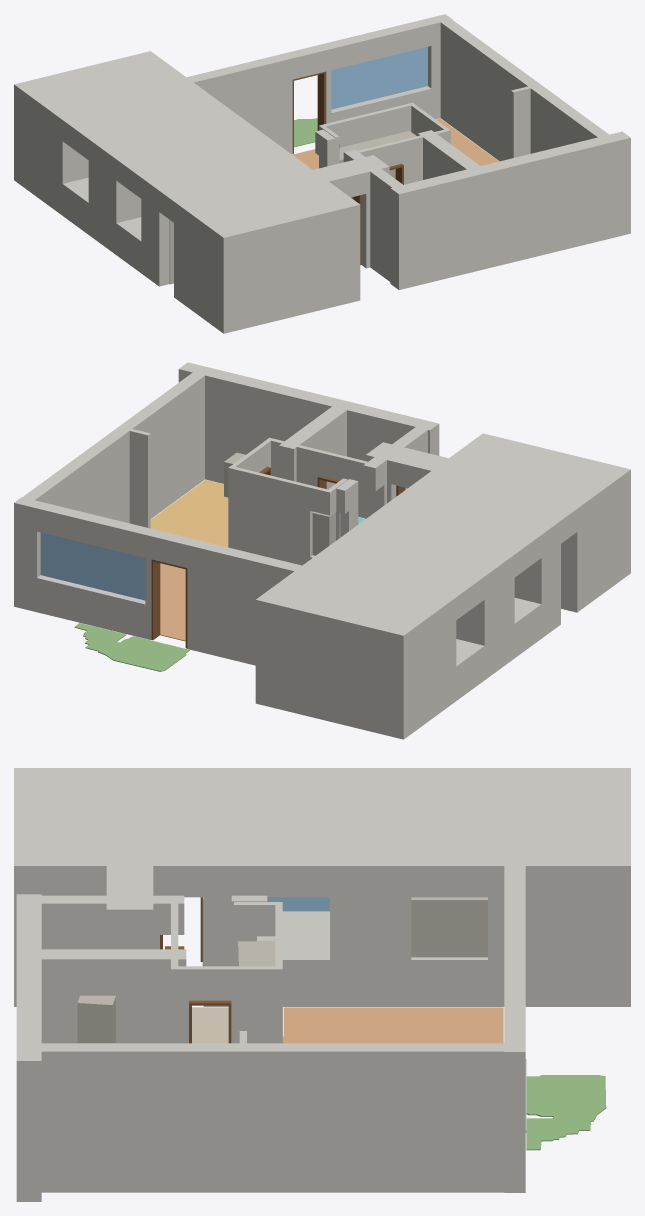
3 views of the same model, one above another, from view 1: azimuth 30°, elevation 25°; view 2: azimuth 150°, elevation 25°; view 3: azimuth 270°, elevation 25° (orthographic). The views are drawn at different scales.
Visible parts, largest first — view 1: walls, window_2, floor_0_Living_Room, door_0, furniture_1_closet, floor_5_Outdoor; view 2: walls, window_2, floor_2_Kitchen, floor_5_Outdoor, floor_0_Living_Room, door_0, furniture_1_closet, sill_2; view 3: walls, floor_0_Living_Room, floor_5_Outdoor, furniture_0_closet, furniture_3_closet, floor_1_Entry, furniture_1_closet, window_6.
Boxes of the visible parts, x1,y1,x2,y2 form: walls: [14, 14, 630, 333]; window_2: [331, 47, 427, 109]; floor_0_Living_Room: [292, 118, 498, 169]; door_0: [292, 71, 325, 153]; furniture_1_closet: [339, 131, 416, 178]; floor_5_Outdoor: [294, 118, 317, 147]; walls: [14, 362, 630, 739]; window_2: [40, 532, 145, 600]; floor_2_Kitchen: [150, 479, 228, 547]; floor_5_Outdoor: [74, 623, 189, 671]; floor_0_Living_Room: [160, 563, 185, 641]; door_0: [151, 559, 187, 648]; furniture_1_closet: [312, 511, 335, 555]; sill_2: [36, 575, 145, 605]; walls: [14, 768, 630, 1201]; floor_0_Living_Room: [282, 1007, 503, 1043]; floor_5_Outdoor: [526, 1075, 606, 1150]; furniture_0_closet: [411, 897, 487, 957]; furniture_3_closet: [77, 995, 115, 1043]; floor_1_Entry: [192, 1007, 282, 1043]; furniture_1_closet: [238, 940, 275, 966]; window_6: [267, 897, 329, 911].
Size of the model in its own units: 12.03 by 2.72 by 10.71.
